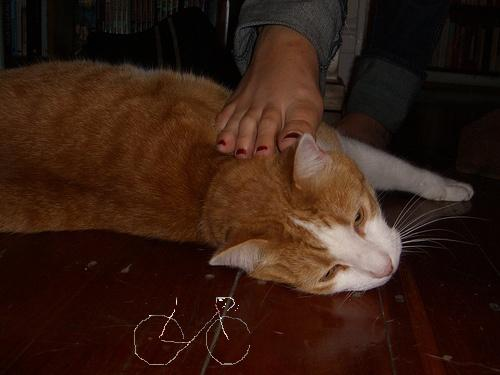tampered: (135, 298, 250, 365)
